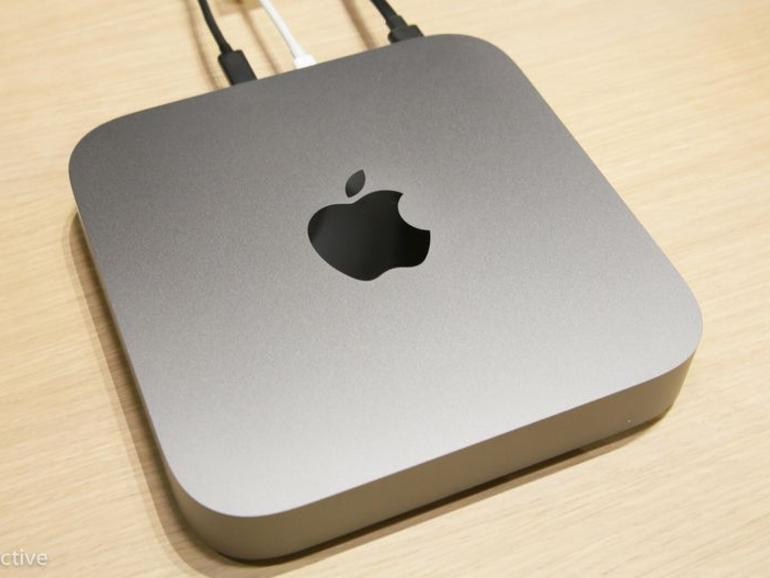apple: (280, 137, 456, 289)
